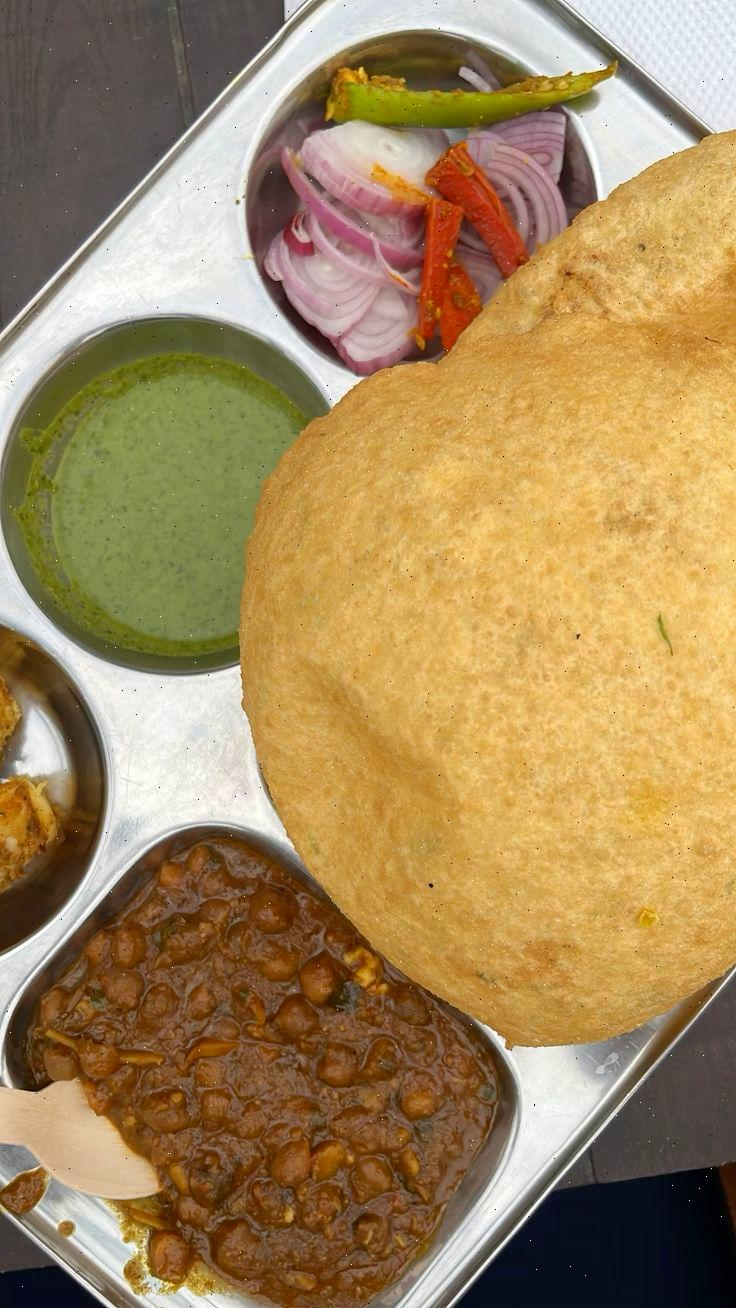chole: (17, 898, 419, 1267)
puri: (303, 418, 723, 912), (551, 174, 736, 405)
salad: (260, 61, 557, 325)
